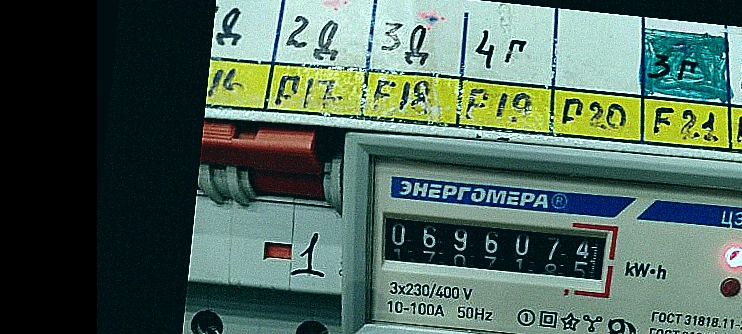0: (386, 219, 408, 246), (513, 229, 532, 257)
4: (574, 234, 592, 260)
5: (572, 258, 589, 278)
6: (419, 221, 441, 249), (481, 228, 500, 254)
7: (542, 233, 562, 261)
9: (449, 225, 471, 252)
screen: (365, 196, 624, 302)
